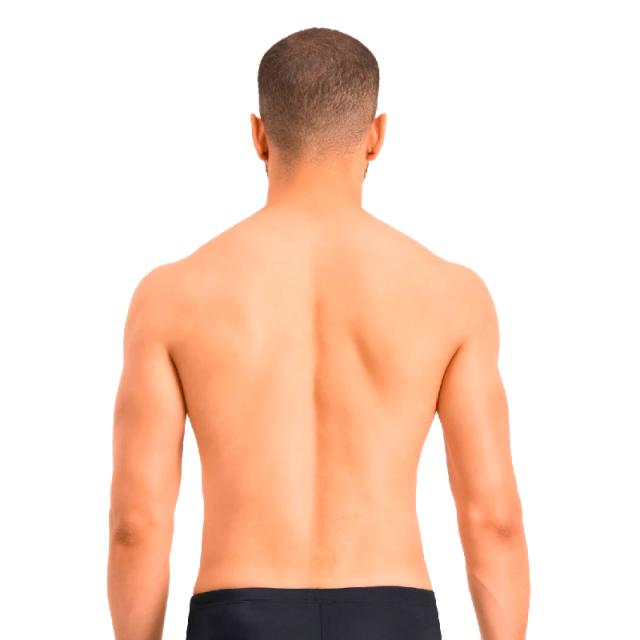piel: (102, 112, 531, 639)
